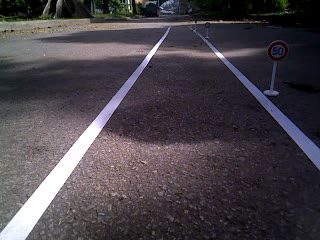limit 50: (265, 36, 291, 65)
